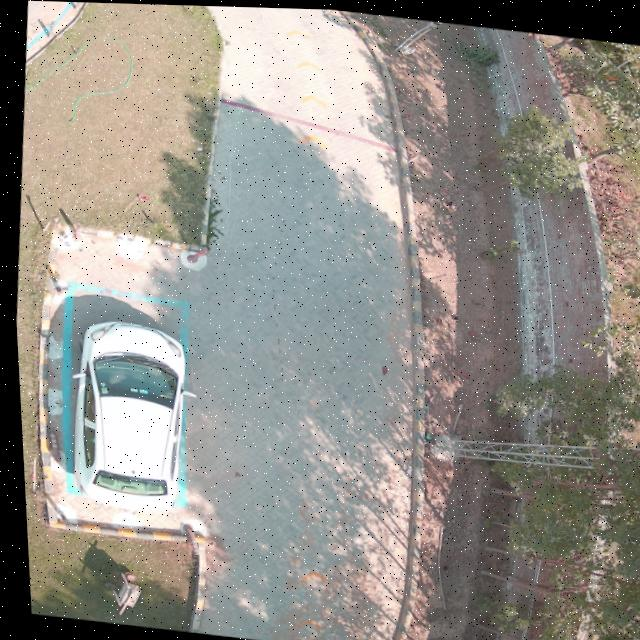car: (66, 320, 186, 511)
